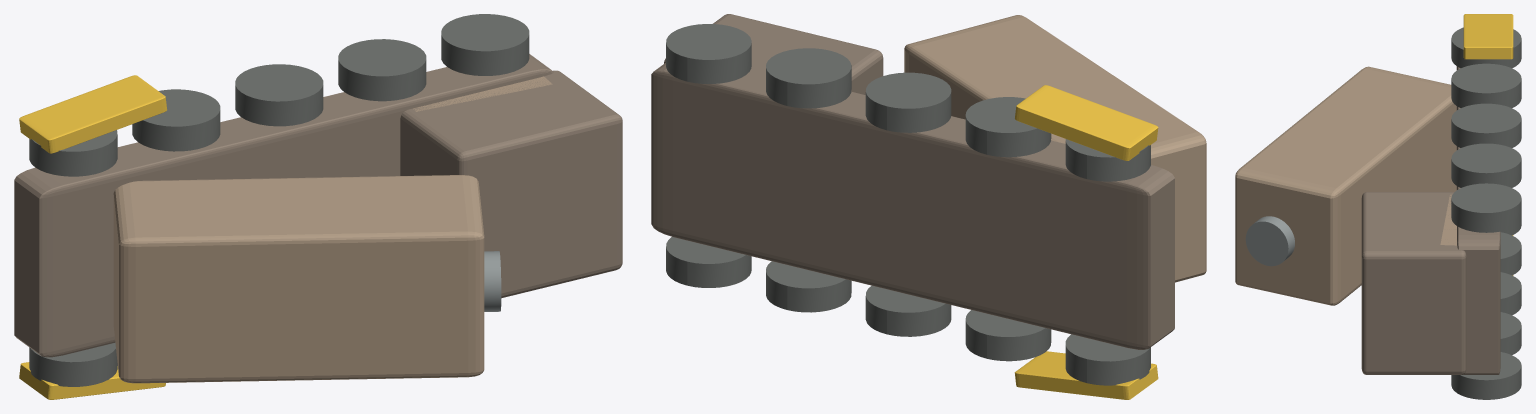
File: d-x01-dominion-tactical-lod1.glb
3 views of the same model, side by side, from view 1: azimuth 30°, elevation 25°; view 2: azimuth 150°, elevation 25°; view 3: azimuth 270°, elevation 25° (orthographic). The views are drawn at different scales.
Visible parts, largest first — view 1: tactical_canister, strategic_lower, strategic_cab, strategic_jack_1, strategic_wheel_1_2, strategic_wheel_1_3, strategic_wheel_1_4, strategic_wheel_1_1, strategic_wheel_-1_0, strategic_wheel_1_0, strategic_jack_-1, tactical_missile (+1 smaller); view 2: strategic_lower, tactical_canister, strategic_jack_1, strategic_wheel_1_2, strategic_wheel_1_3, strategic_wheel_1_4, strategic_cab, strategic_wheel_1_1, strategic_wheel_-1_1, strategic_wheel_-1_2, strategic_wheel_-1_0, strategic_wheel_-1_3 (+3 smaller); view 3: tactical_canister, strategic_cab, strategic_lower, strategic_wheel_1_4, strategic_wheel_1_2, strategic_wheel_1_1, strategic_wheel_1_3, strategic_jack_1, strategic_wheel_-1_4, tactical_missile, strategic_wheel_1_0, strategic_wheel_-1_1 (+3 smaller).
Part boxes in pixels (x1,y1,x2,y2): tactical_canister: [113, 175, 484, 383]; strategic_lower: [14, 54, 553, 357]; strategic_cab: [400, 70, 622, 298]; strategic_jack_1: [19, 75, 167, 153]; strategic_wheel_1_2: [235, 64, 323, 126]; strategic_wheel_1_3: [338, 39, 426, 101]; strategic_wheel_1_4: [441, 14, 529, 75]; strategic_wheel_1_1: [132, 89, 220, 151]; strategic_wheel_-1_0: [29, 343, 117, 386]; strategic_wheel_1_0: [29, 130, 117, 176]; strategic_jack_-1: [19, 362, 165, 399]; tactical_missile: [484, 251, 501, 311]; strategic_lower: [651, 63, 1174, 349]; tactical_canister: [904, 15, 1206, 282]; strategic_jack_1: [1015, 85, 1158, 160]; strategic_wheel_1_2: [865, 72, 951, 132]; strategic_wheel_1_3: [766, 48, 851, 108]; strategic_wheel_1_4: [666, 24, 751, 83]; strategic_cab: [664, 14, 883, 94]; strategic_wheel_1_1: [965, 97, 1051, 157]; strategic_wheel_-1_1: [965, 310, 1051, 361]; strategic_wheel_-1_2: [865, 285, 951, 336]; strategic_wheel_-1_0: [1065, 334, 1150, 385]; strategic_wheel_-1_3: [766, 261, 851, 312]; tactical_canister: [1235, 66, 1456, 305]; strategic_cab: [1361, 192, 1466, 374]; strategic_lower: [1456, 66, 1500, 374]; strategic_wheel_1_4: [1451, 183, 1521, 232]; strategic_wheel_1_2: [1451, 103, 1521, 147]; strategic_wheel_1_1: [1451, 63, 1521, 107]; strategic_wheel_1_3: [1451, 143, 1521, 187]; strategic_jack_1: [1463, 14, 1513, 59]; strategic_wheel_-1_4: [1451, 352, 1521, 399]; tactical_missile: [1245, 216, 1294, 266]; strategic_wheel_1_0: [1451, 27, 1521, 68]; strategic_wheel_-1_1: [1500, 232, 1521, 275].
Size of what is drawn, in the model's own units: 10.18 by 5.37 by 6.06.
